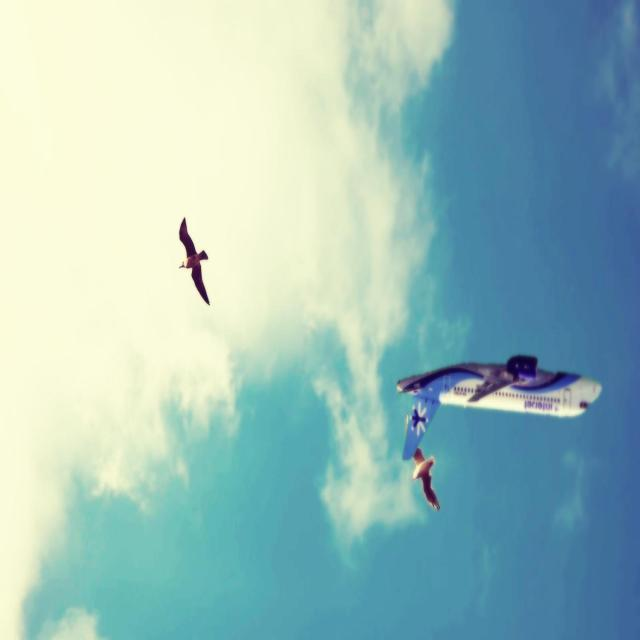airplane: (396, 353, 602, 461)
